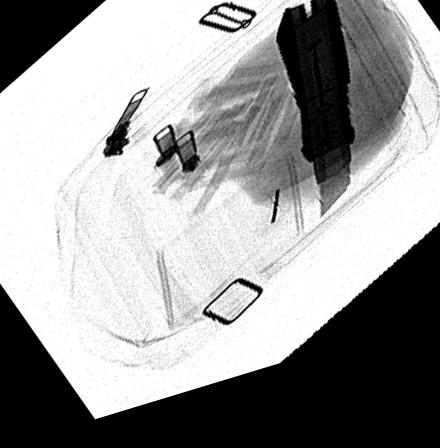Knife: (275, 10, 357, 238)
